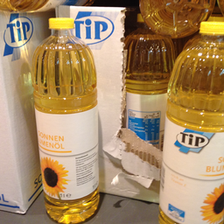oil: (31, 16, 100, 222), (158, 22, 224, 221), (124, 13, 175, 146)
